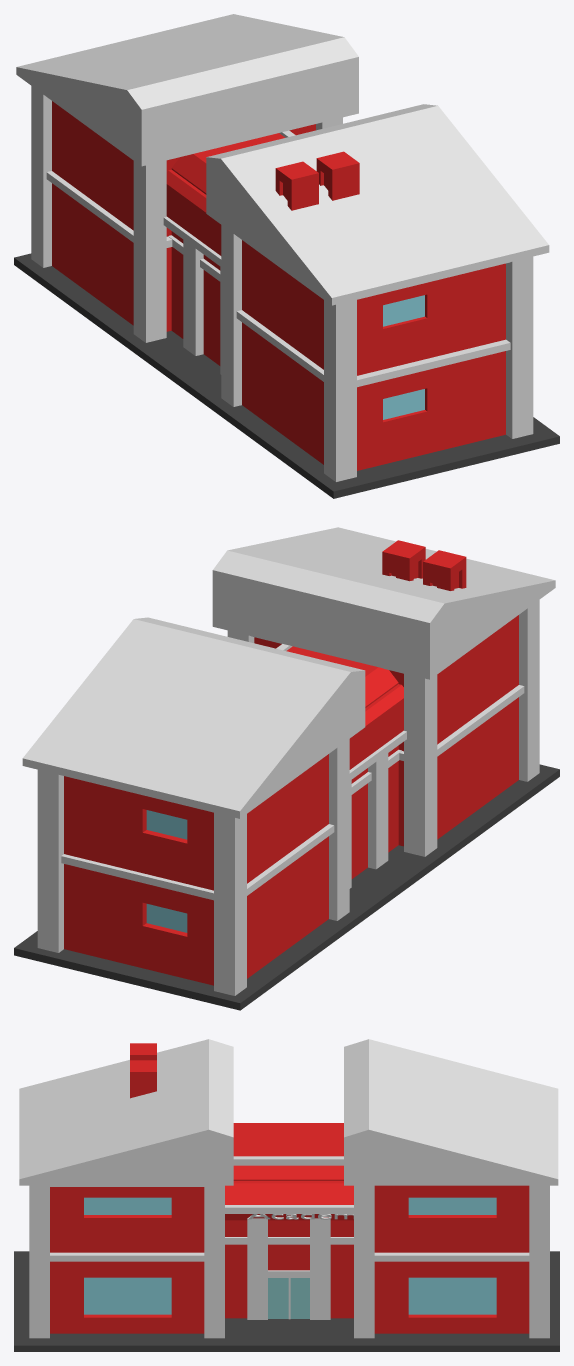
The model's file is Academy.fbx.
The picture shows the model from 3 angles, top to bottom: view 1: azimuth 30°, elevation 25°; view 2: azimuth 150°, elevation 25°; view 3: azimuth 270°, elevation 25°; orthographic projection. The views are drawn at different scales.
Visible parts, largest first — view 1: Cube.010, Cube, Cube.001, Cube.003, Cube.016, Cube.002, Cube.012, Cube.007, Cube.005, Cube.006, Cube.013, Cube.008 (+7 smaller); view 2: Cube.001, Cube.016, Cube.010, Cube, Cube.003, Cube.002, Cube.006, Cube.013, Cube.015, Cube.012, Cube.007, Cube.011 (+7 smaller); view 3: Cube.001, Cube.010, Cube.016, Cube, Cube.002, Cube.003, Cube.028, Cube.026, Cube.004, Cube.005, Cube.015, Cube.014 (+13 smaller).
Boxes of the visible parts, x1,y1,x2,y2 form: Cube.010: (206, 104, 549, 305); Cube: (242, 240, 505, 470); Cube.001: (16, 14, 358, 166); Cube.003: (14, 253, 559, 498); Cube.016: (52, 101, 315, 331); Cube.002: (166, 133, 285, 365); Cube.012: (133, 160, 166, 342); Cube.007: (324, 299, 356, 481); Cube.005: (506, 256, 533, 438); Cube.006: (221, 225, 241, 406); Cube.013: (31, 86, 51, 267); Cube.008: (236, 310, 510, 387); Cube.001: (22, 617, 365, 818); Cube.016: (64, 754, 328, 985); Cube.010: (212, 527, 555, 679); Cube: (254, 615, 518, 846); Cube.003: (14, 764, 559, 1010); Cube.002: (286, 646, 403, 878); Cube.006: (404, 673, 437, 856); Cube.013: (214, 812, 246, 995); Cube.015: (37, 769, 63, 952); Cube.012: (329, 739, 349, 920); Cube.007: (519, 600, 539, 781); Cube.011: (61, 824, 334, 900); Cube.001: (344, 1039, 558, 1185); Cube.010: (19, 1039, 233, 1185); Cube.016: (374, 1185, 529, 1333); Cube: (50, 1187, 204, 1333); Cube.002: (225, 1123, 353, 1318); Cube.003: (14, 1251, 559, 1351); Cube.028: (408, 1277, 496, 1314); Cube.026: (84, 1277, 171, 1314); Cube.004: (204, 1185, 224, 1338); Cube.005: (29, 1185, 49, 1338); Cube.015: (529, 1185, 549, 1338); Cube.014: (354, 1185, 374, 1338).
Bounding box in the file's own units: 2160 × 2580 × 5284.
